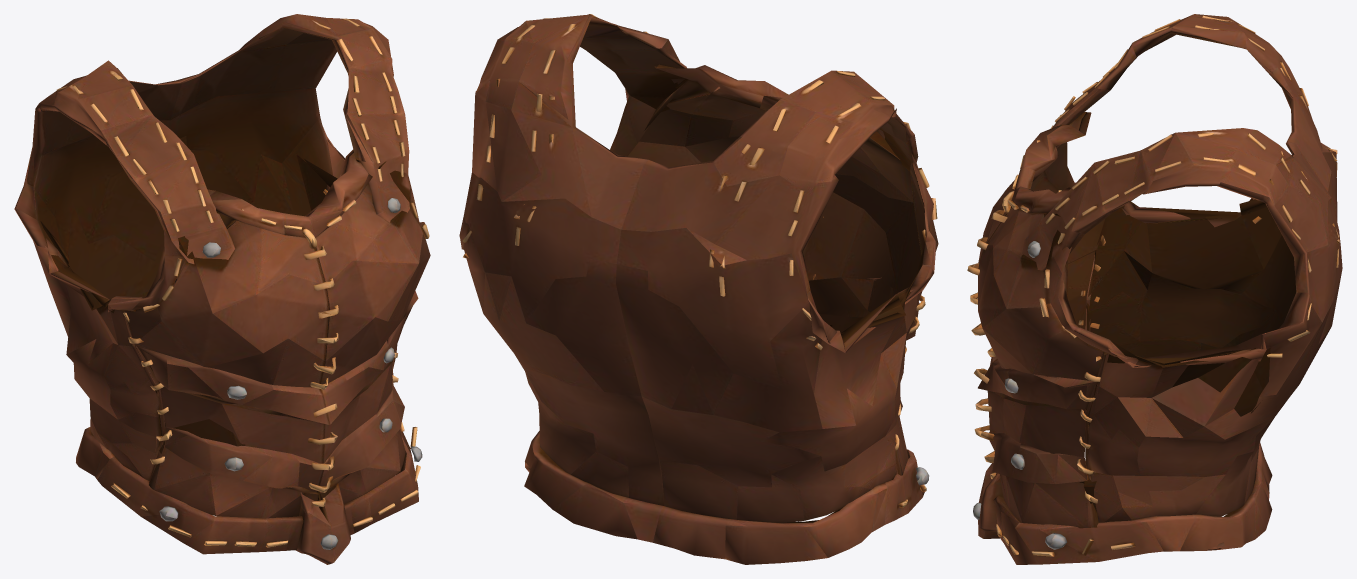
File: leather-body-armor.glb
3 views of the same model, side by side, from view 1: azimuth 30°, elevation 25°; view 2: azimuth 150°, elevation 25°; view 3: azimuth 270°, elevation 25° (orthographic). The views are drawn at different scales.
Visible parts, largest first — view 1: Module_native_leather_body_armor; view 2: Module_native_leather_body_armor; view 3: Module_native_leather_body_armor.
Boxes of the visible parts, x1,y1,x2,y2 form: Module_native_leather_body_armor: [14, 14, 430, 564]; Module_native_leather_body_armor: [459, 14, 938, 564]; Module_native_leather_body_armor: [967, 14, 1342, 564].
Size of the model in its own units: 0.3713 by 0.4857 by 0.3595.
1 material, 1 textured.
